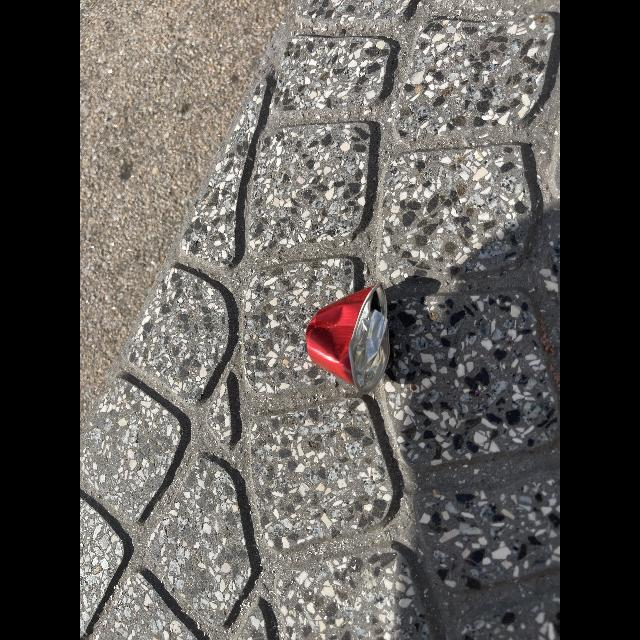damaged_capsule: (296, 277, 412, 409)
